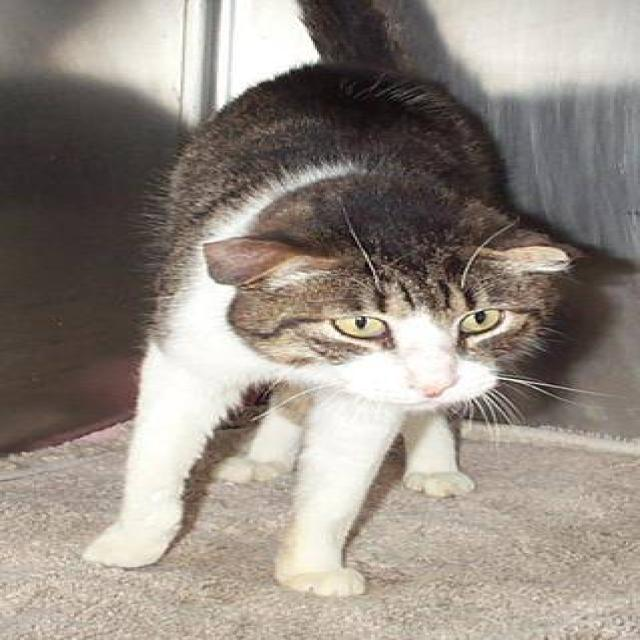cat: (24, 0, 610, 609)
